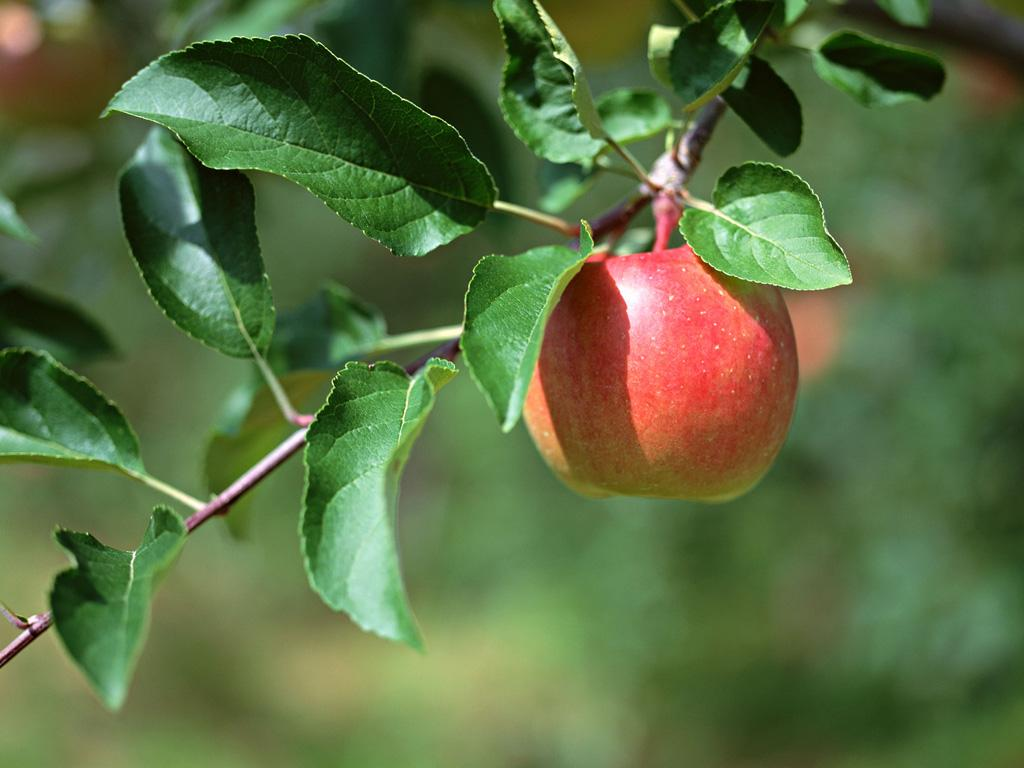Apple leaf: (86, 32, 531, 244), (290, 343, 468, 674), (111, 129, 292, 381), (38, 495, 195, 719), (458, 218, 611, 441), (656, 154, 880, 301)
